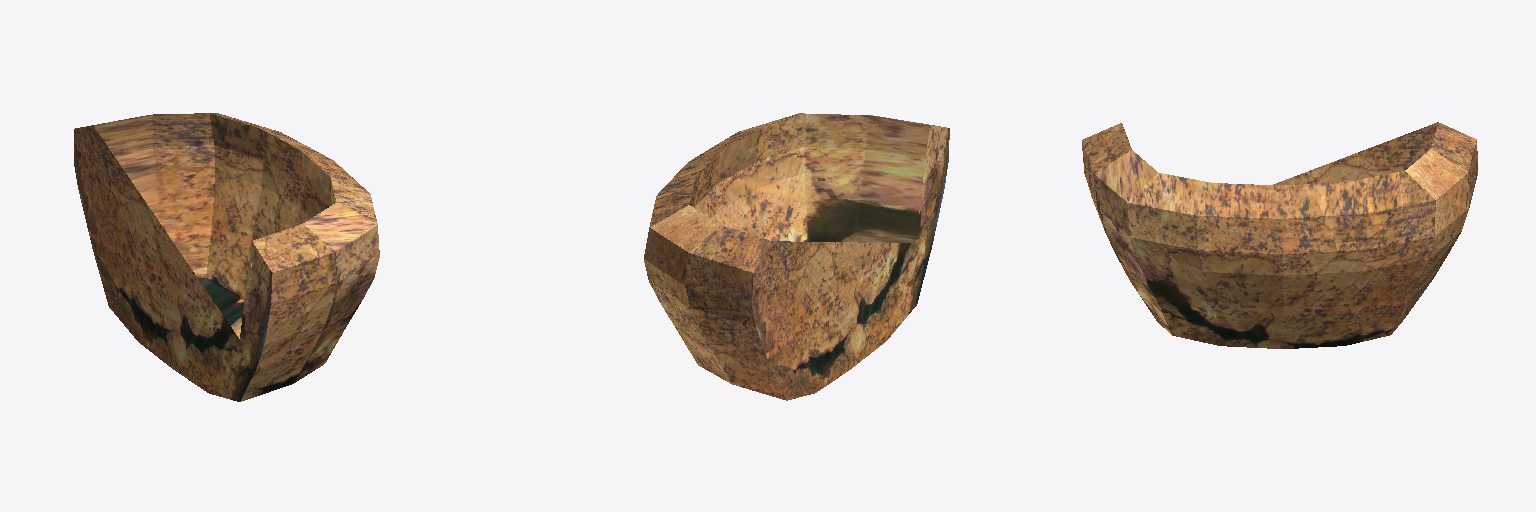
3 views of the same model, side by side, from view 1: azimuth 30°, elevation 25°; view 2: azimuth 150°, elevation 25°; view 3: azimuth 270°, elevation 25° (orthographic).
Parts seen in each view (by area): view 1: Cylinder; view 2: Cylinder; view 3: Cylinder.
Boxes of the visible parts, x1=… form: Cylinder: x1=74, y1=113, x2=379, y2=401; Cylinder: x1=644, y1=113, x2=949, y2=400; Cylinder: x1=1082, y1=122, x2=1477, y2=348.
Bounding box in the file's own units: 0.2167 × 0.23 × 0.4441.
Materials: 1 (1 with a texture image).